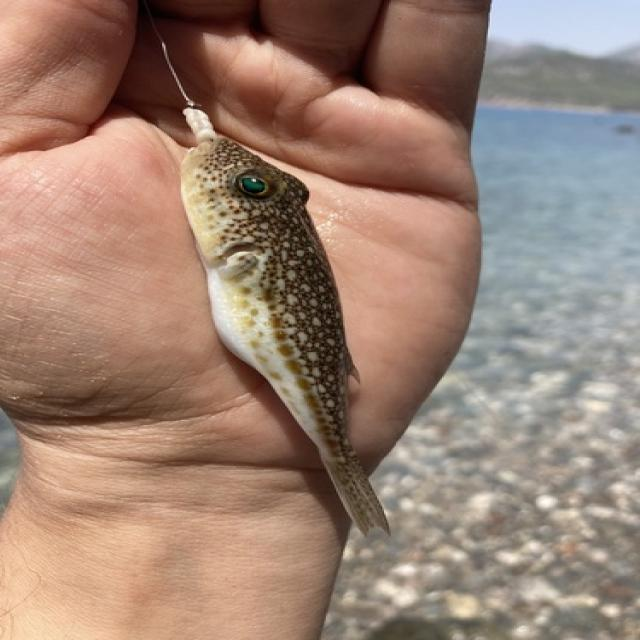Balik: (181, 105, 389, 533)
